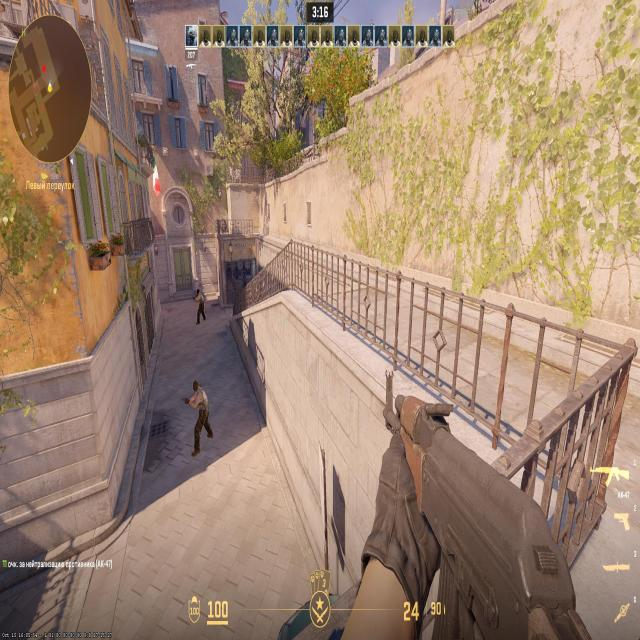T: (194, 382, 208, 434), (196, 290, 206, 316)
T_heat: (194, 388, 200, 400), (197, 294, 200, 300)
